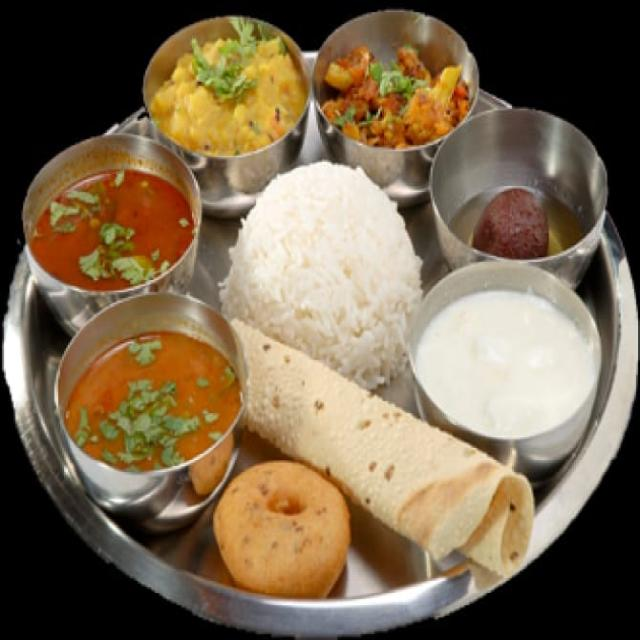veg meals: (13, 2, 634, 623)
